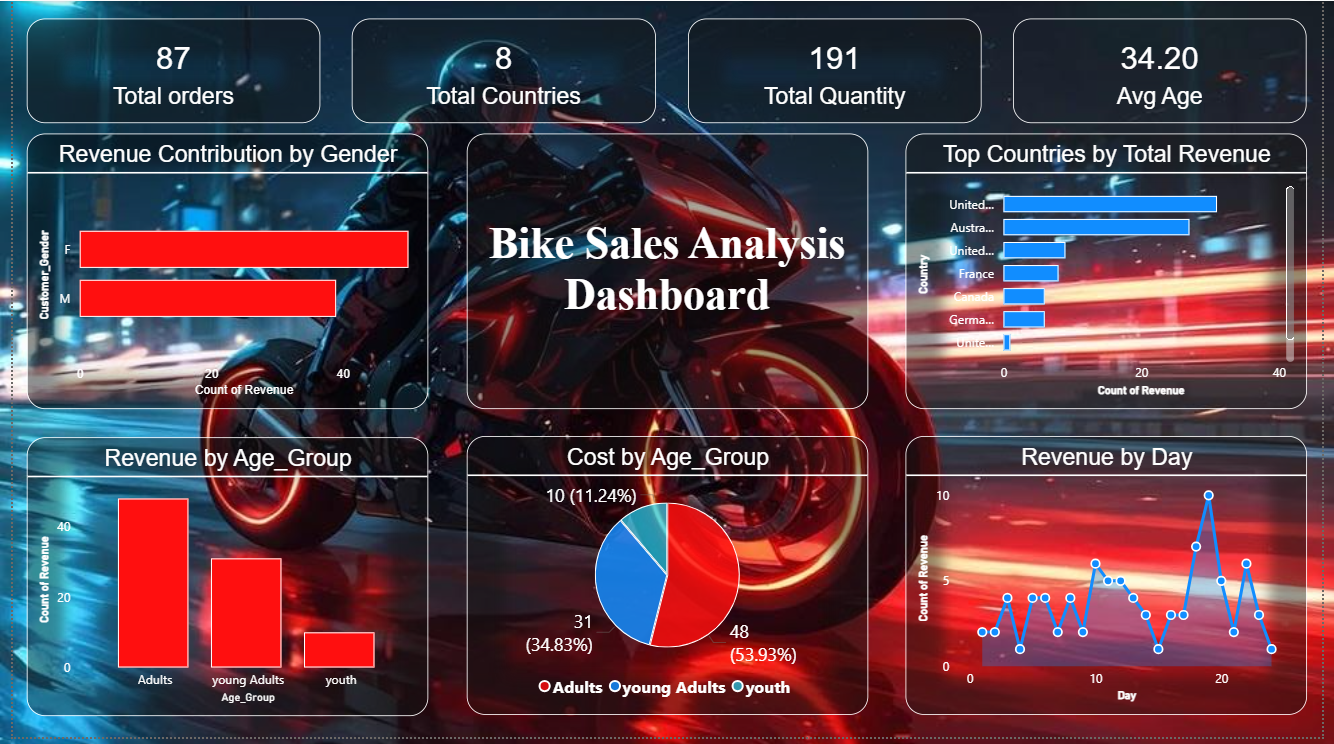

The page's visual inventory and layout, read from the dashboard file:
{"tool":"powerbi","page":{"name":"Page 1","canvas":[1280,720],"ordinal":0},"visuals":[{"type":"clusteredColumnChart","title":"Revenue  by Age_Group","fields":{"Category":["bike sales.Age_Group"],"Y":["CountNonNull(bike sales. Revenue )"]},"box":[13,427.1,392.4,272.7],"z":0},{"type":"clusteredBarChart","title":"Revenue Contribution by Gender","fields":{"Y":["CountNonNull(bike sales. Revenue )"],"Category":["bike sales.Customer_Gender"]},"box":[13,129.8,392.4,269.8],"z":1000},{"type":"lineChart","title":"Revenue  by Day","fields":{"Category":["bike sales.Date.Variation.Date Hierarchy.Day"],"Y":["CountNonNull(bike sales. Revenue )"]},"box":[872.9,425.6,392.4,272.7],"z":2000},{"type":"pieChart","title":"Cost   by Age_Group","fields":{"Y":["CountNonNull(bike sales.  Cost  )"],"Category":["bike sales.Age_Group"]},"box":[444.4,425.6,392.4,272.7],"z":3000},{"type":"barChart","title":"Top Countries by Total Revenue","fields":{"Category":["bike sales.Country"],"Y":["Sum(bike sales. Revenue )"]},"box":[872.9,129.8,392.4,269.8],"z":4000},{"type":"card","fields":{"Values":["bike sales.Total orders"]},"box":[13,17.3,287.1,102.4],"z":5000},{"type":"card","fields":{"Values":["bike sales.Avg Age"]},"box":[978.2,17.3,287.1,102.4],"z":6000},{"type":"card","fields":{"Values":["bike sales.Total Quantity"]},"box":[660.8,17.3,287.1,102.4],"z":7000},{"type":"card","fields":{"Values":["bike sales.Total Countries"]},"box":[331.8,17.3,297.2,102.4],"z":8000},{"type":"textbox","box":[444.4,129.8,392.4,269.8],"z":9000}]}

Visuals, with their boxes in screenshot pixels (x1, y1, x2, y2), scaled from the page's 1280x720 canvas onto the 1334x744 screenshot:
"Revenue  by Age_Group" clusteredColumnChart: x1=14, y1=441, x2=423, y2=723
"Revenue Contribution by Gender" clusteredBarChart: x1=14, y1=134, x2=423, y2=413
"Revenue  by Day" lineChart: x1=910, y1=440, x2=1319, y2=722
"Cost   by Age_Group" pieChart: x1=463, y1=440, x2=872, y2=722
"Top Countries by Total Revenue" barChart: x1=910, y1=134, x2=1319, y2=413
card - bike sales.Total orders: x1=14, y1=18, x2=313, y2=124
card - bike sales.Avg Age: x1=1019, y1=18, x2=1319, y2=124
card - bike sales.Total Quantity: x1=689, y1=18, x2=988, y2=124
card - bike sales.Total Countries: x1=346, y1=18, x2=656, y2=124
textbox: x1=463, y1=134, x2=872, y2=413
